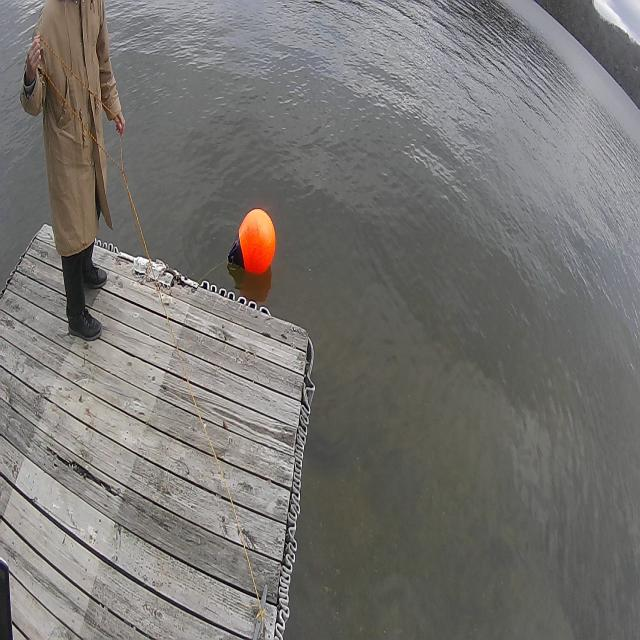Buoy: (228, 206, 278, 283)
